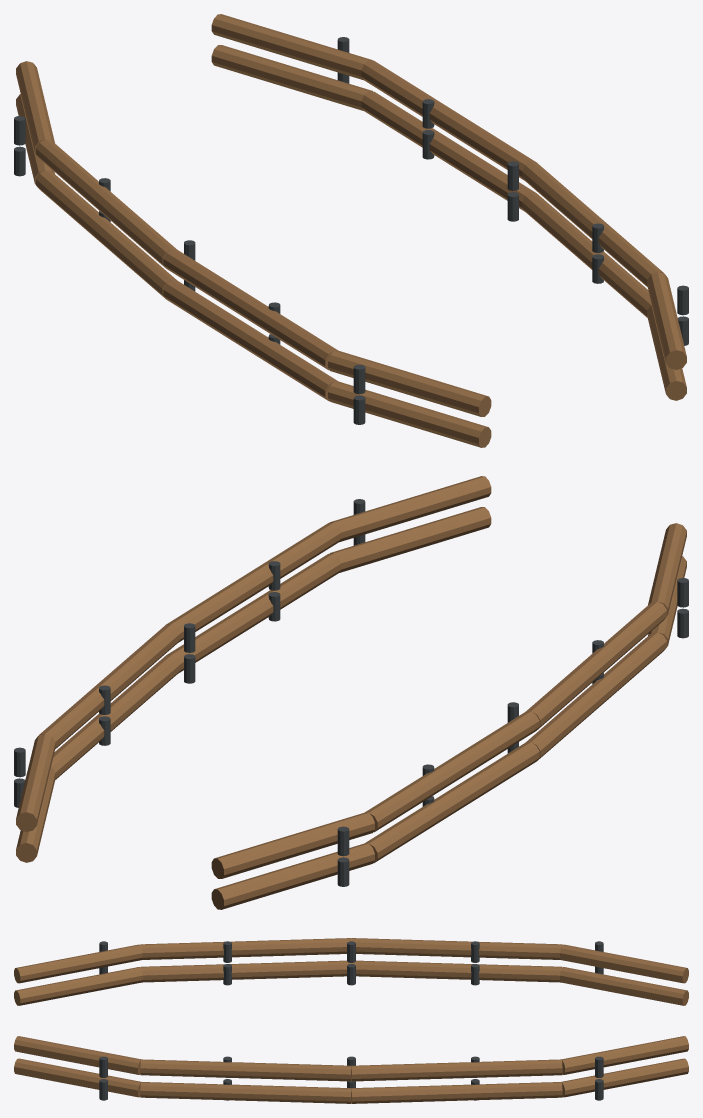
The model's file is upgrade-hull.glb.
3 views of the same model, one above another, from view 1: azimuth 30°, elevation 25°; view 2: azimuth 150°, elevation 25°; view 3: azimuth 270°, elevation 25° (orthographic). The views are drawn at different scales.
Parts seen in each view (by area): view 1: upgrade-hull; view 2: upgrade-hull; view 3: upgrade-hull.
Boxes of the visible parts, x1=… form: upgrade-hull: x1=14, y1=14, x2=688, y2=447; upgrade-hull: x1=14, y1=476, x2=688, y2=909; upgrade-hull: x1=14, y1=938, x2=688, y2=1103.
Size of the model in its own units: 2.56 by 0.36 by 5.45.
